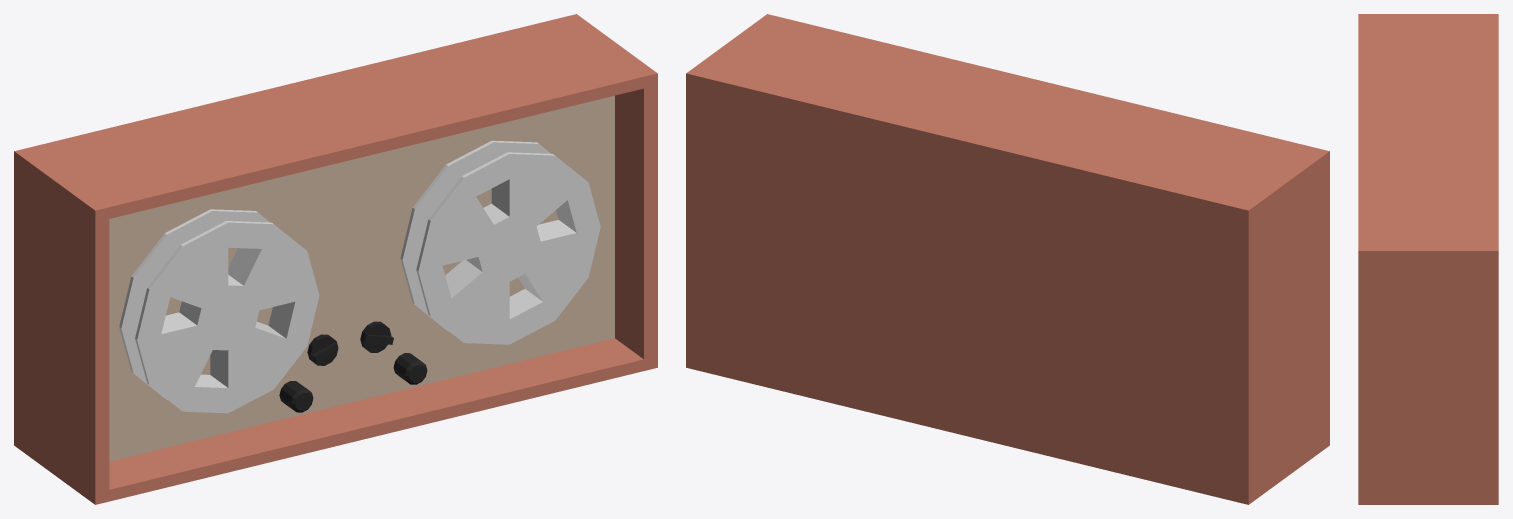
The model's file is Block0B.fbx.
The picture shows the model from 3 angles, left to right: view 1: azimuth 30°, elevation 25°; view 2: azimuth 150°, elevation 25°; view 3: azimuth 270°, elevation 25°; orthographic projection. The views are drawn at different scales.
Visible parts, largest first — view 1: Block0B; view 2: Block0B; view 3: Block0B.
Part boxes in pixels (box(x1,y1,x2,y2)): Block0B: box(14, 14, 657, 504); Block0B: box(686, 14, 1329, 504); Block0B: box(1358, 14, 1498, 504).
Bounding box in the file's own units: 2 × 1 × 0.5.
